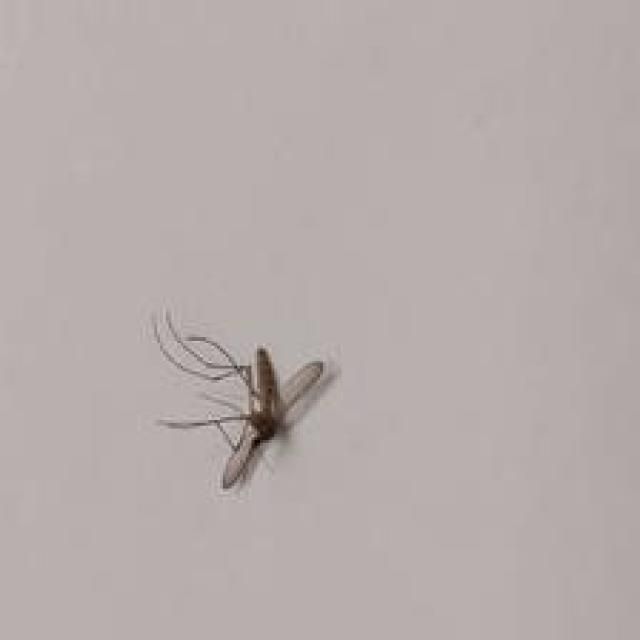Culex: (150, 306, 339, 491)
